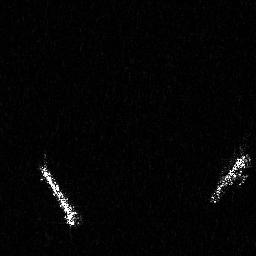ship: (34, 152, 84, 231), (206, 142, 255, 208)
